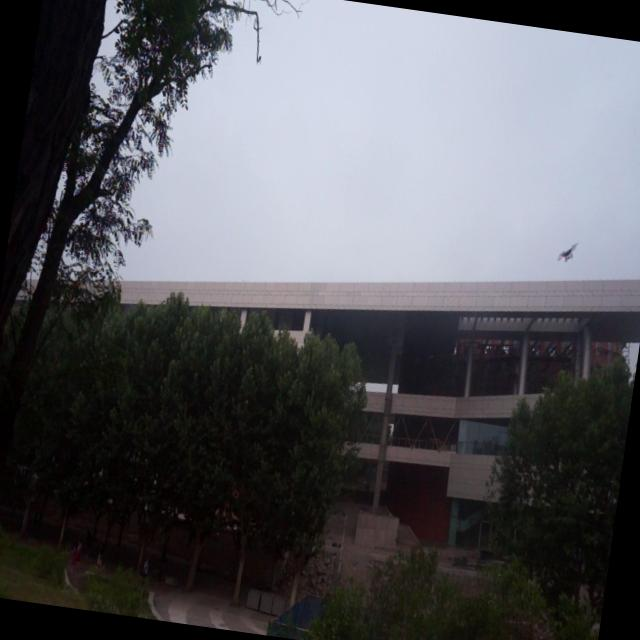drone: (552, 236, 582, 268)
